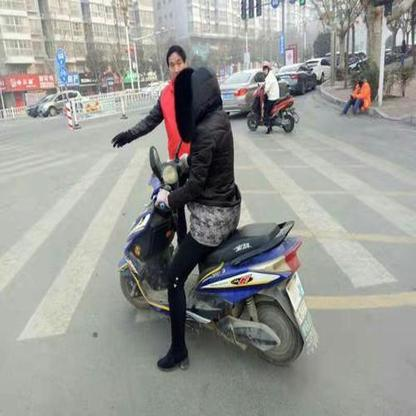target: (121, 66, 322, 373)
